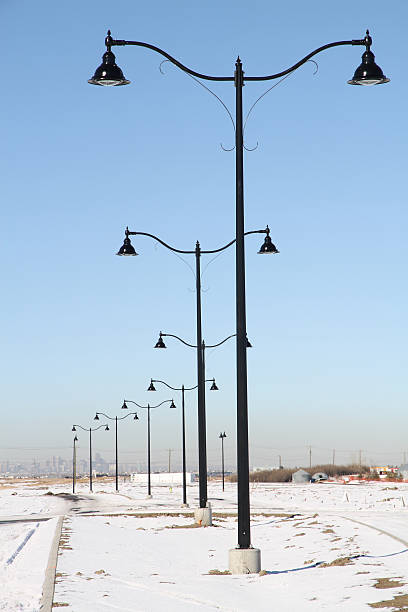light_pole: (228, 80, 259, 577), (192, 235, 214, 524)
